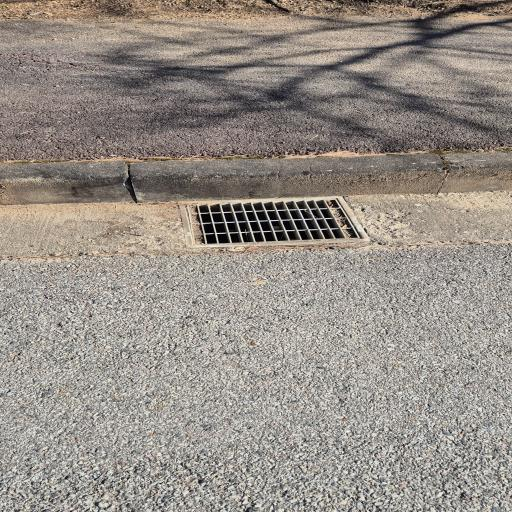drain: (182, 198, 367, 245)
